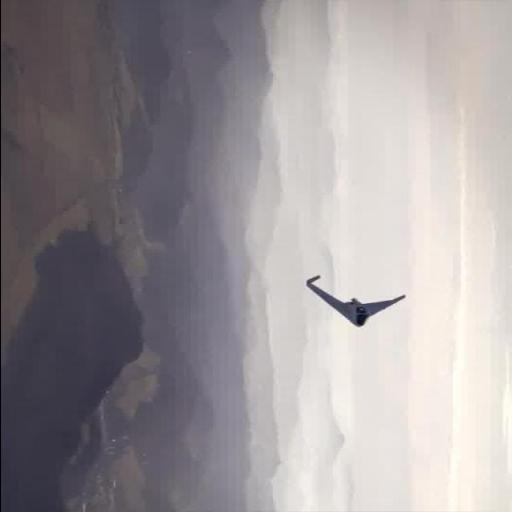uav: (296, 272, 410, 326)
